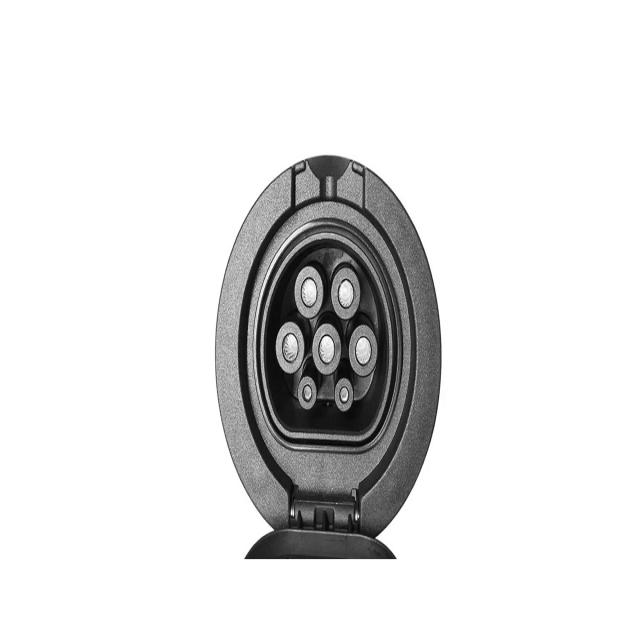Type 2: (248, 218, 411, 457)
